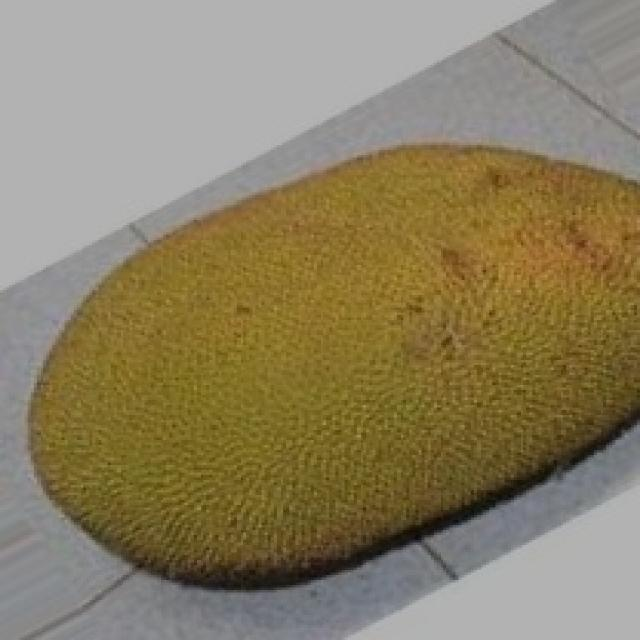Fruit: (0, 265, 378, 630), (224, 109, 640, 382)
